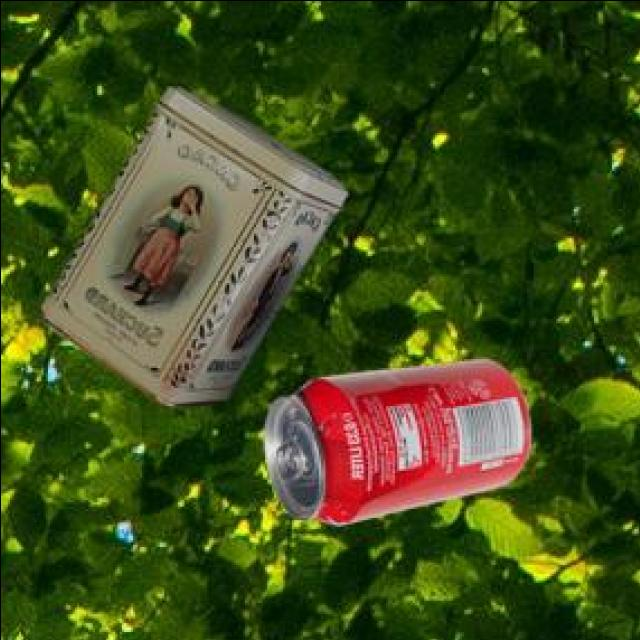logam: (32, 88, 343, 411), (261, 361, 525, 527)
